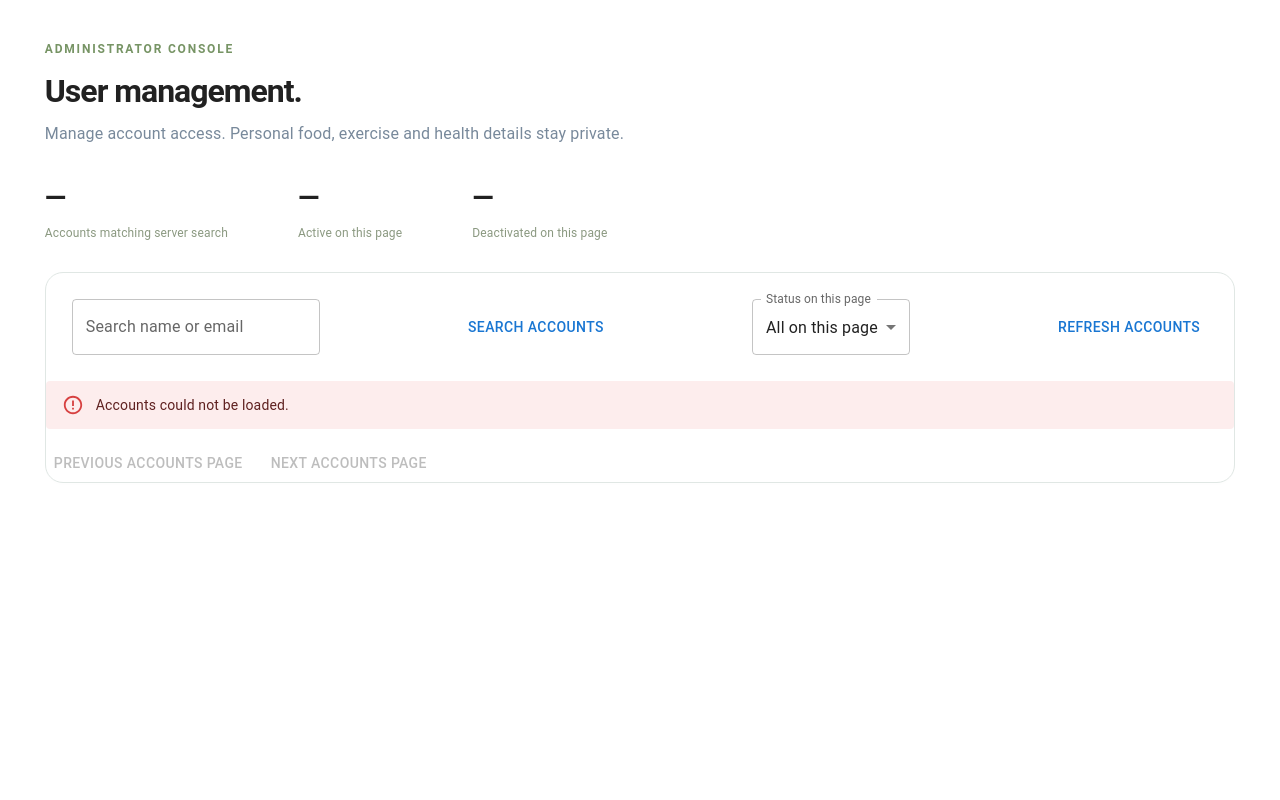
F16 real account management controls › keeps read failures distinct from no matching accounts and supports reactivation
Expected: the text "Accounts could not be loaded." is shown, [96, 397, 289, 413]
Click the button "Refresh accounts": (1129, 327) [1050, 309, 1208, 346]
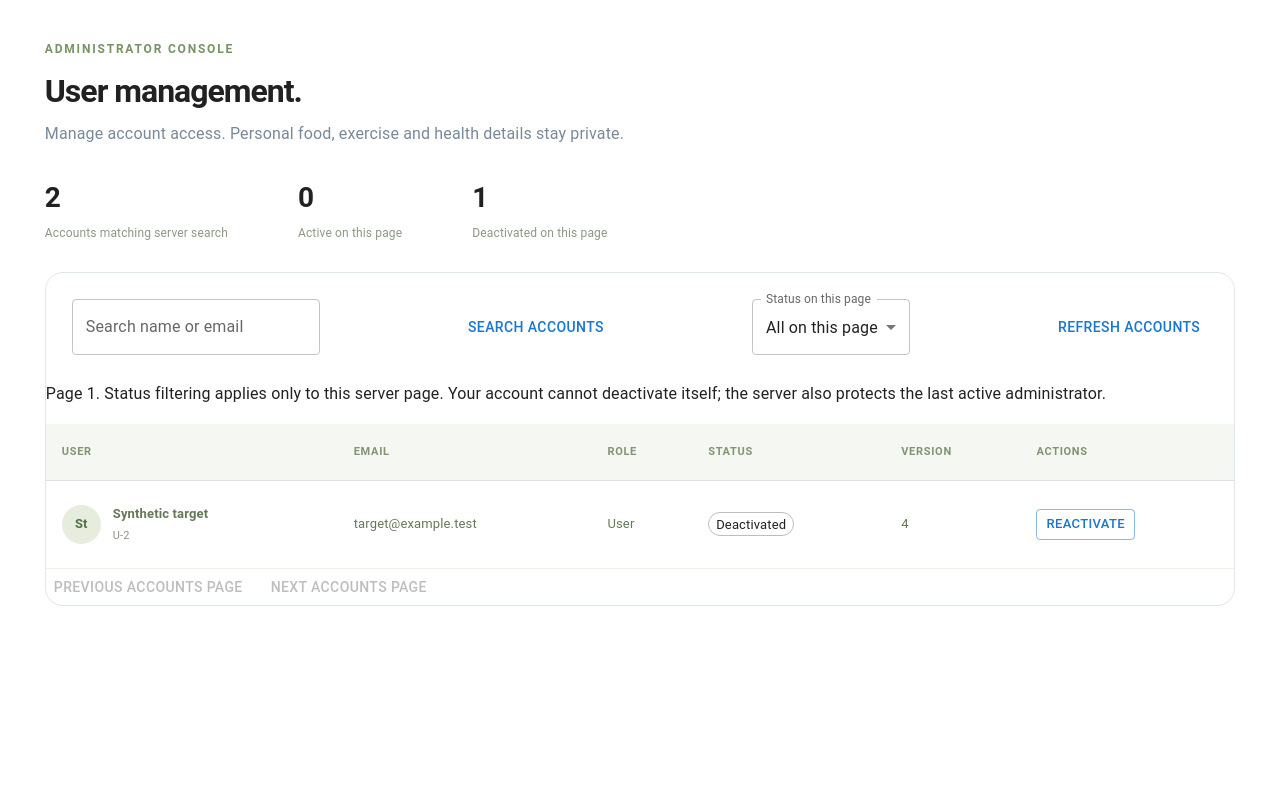
Click the button with aria-label "Reactivate Synthetic target": (1086, 524) [1036, 509, 1135, 540]
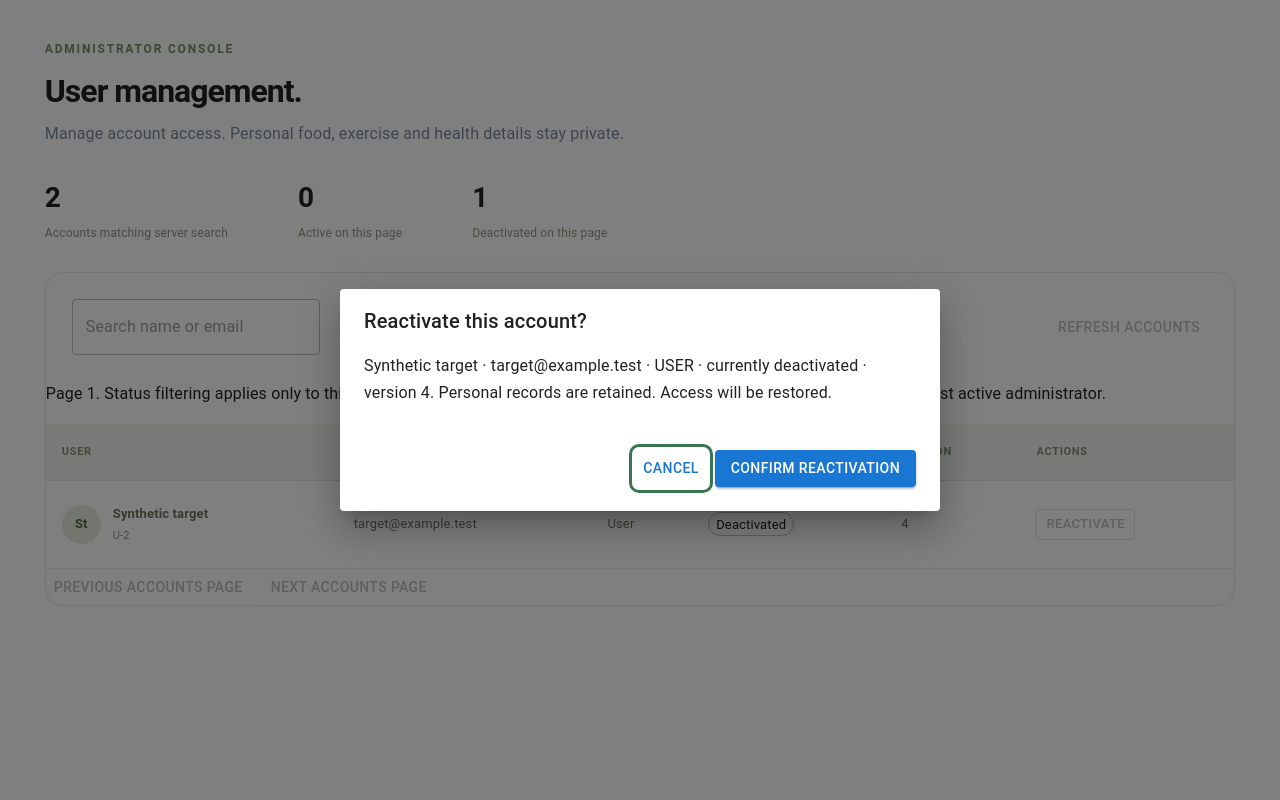
Click the button "Confirm reactivation": (815, 468) [715, 450, 916, 487]
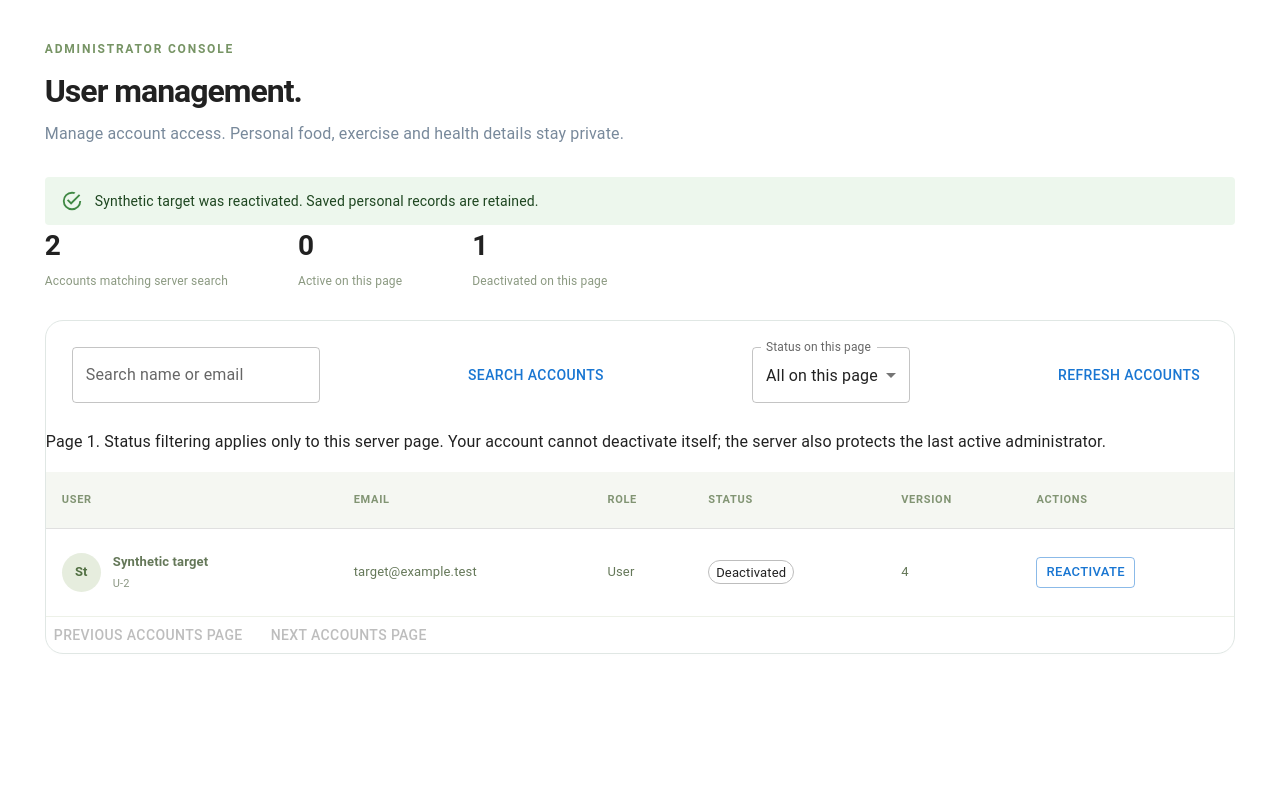
Result: the text "Synthetic target was reactivated. Saved personal records are retained." is shown at [95, 193, 539, 209]
